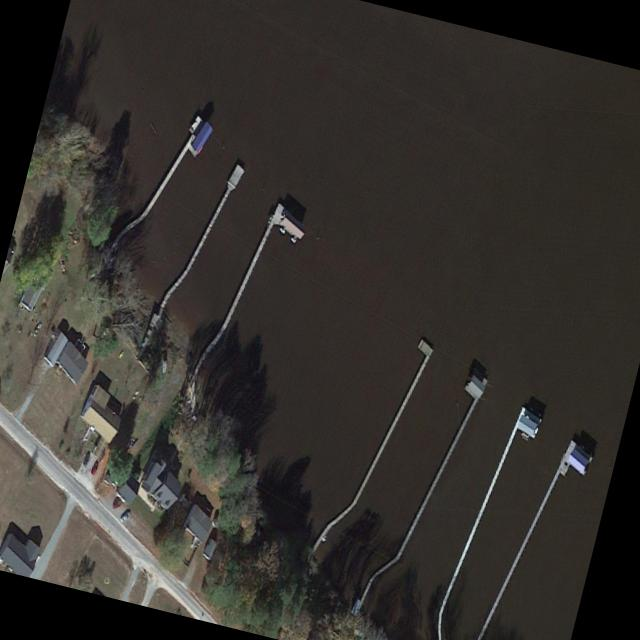small-vehicle: (81, 450, 91, 468), (118, 510, 130, 525), (90, 459, 100, 476), (112, 499, 122, 510)
